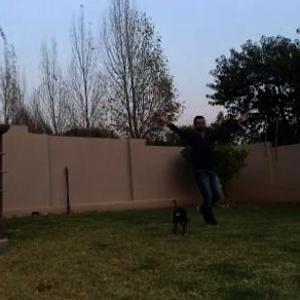takeoff: (157, 113, 248, 226)
